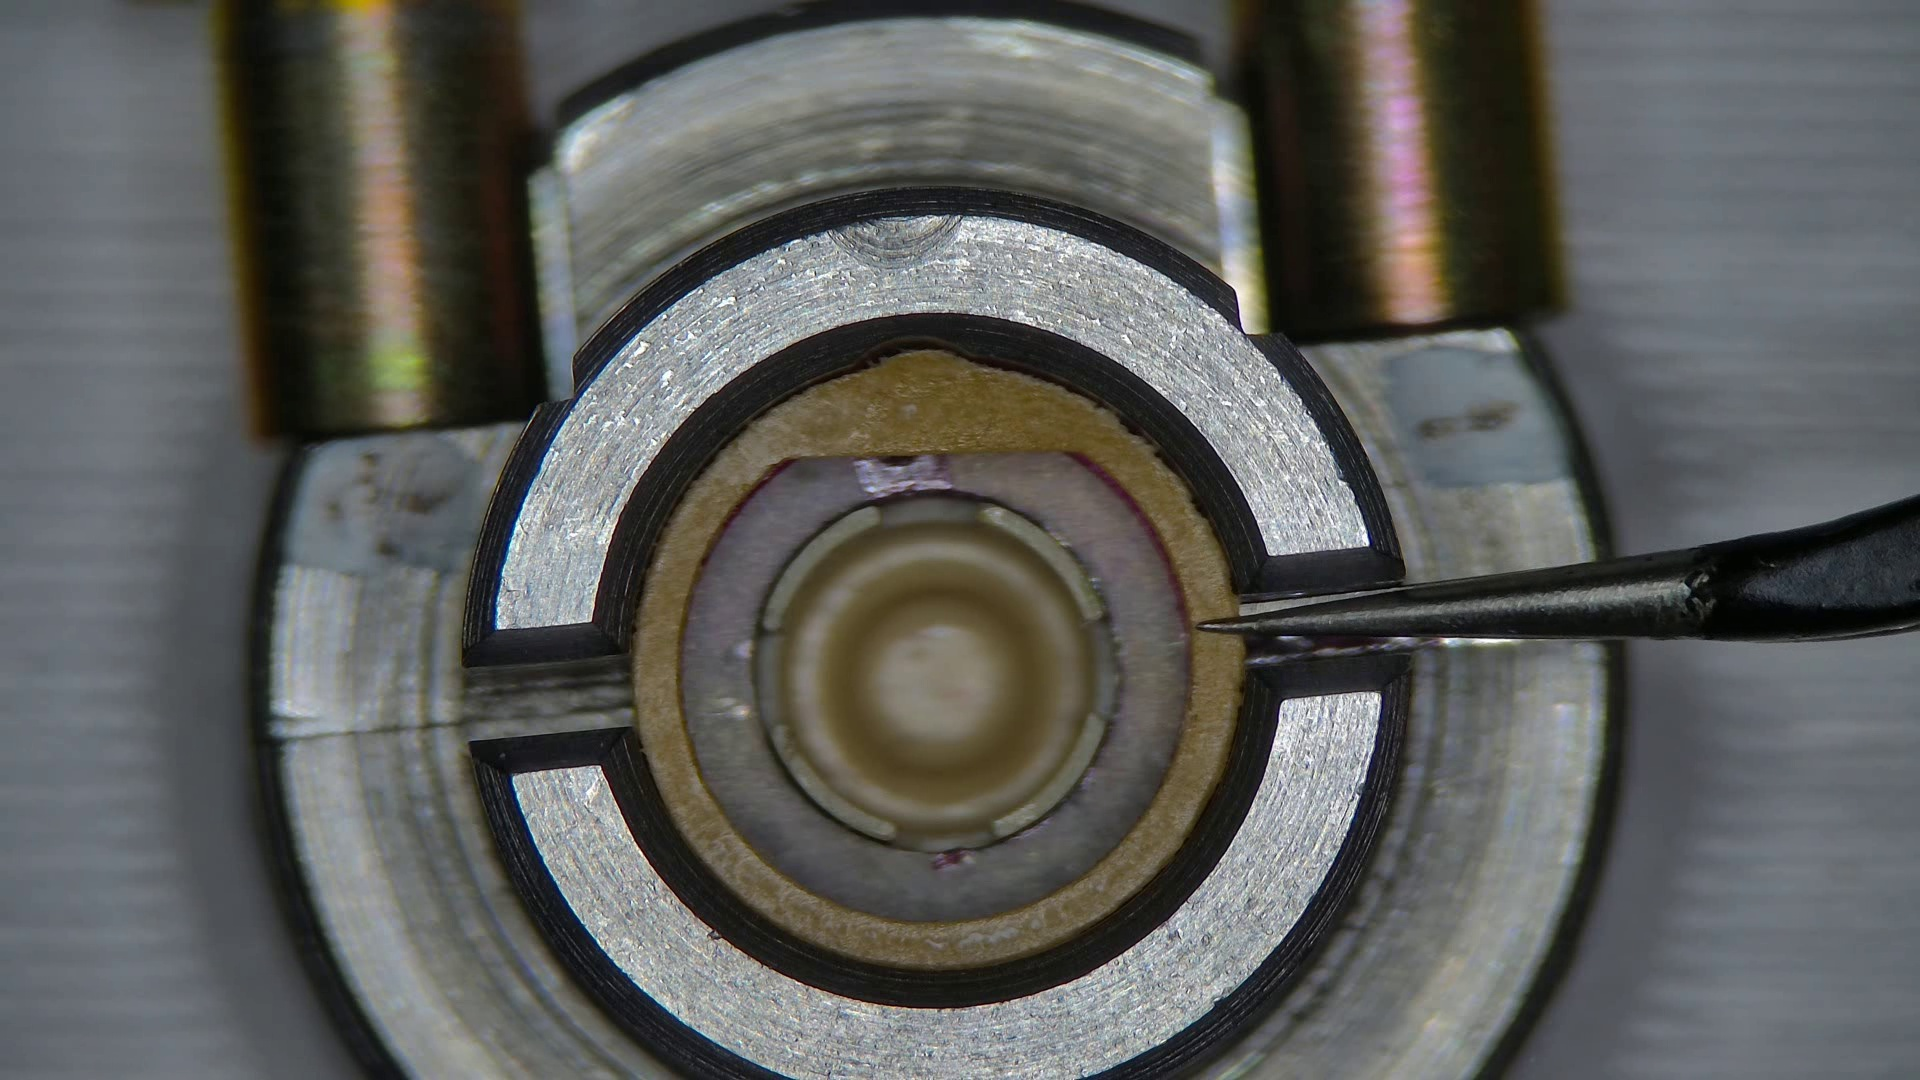YellowOring: (676, 452, 1184, 920)
redOring: (632, 348, 1242, 967)
